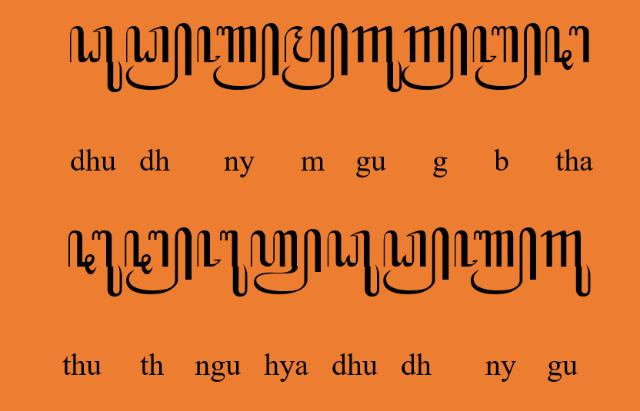-b: (472, 22, 542, 90)
-dh: (382, 227, 450, 295), (126, 22, 192, 92)
-g: (401, 22, 467, 92)
-m: (282, 22, 348, 90)
-ny: (196, 22, 280, 92), (454, 226, 538, 296)
-th: (124, 227, 194, 296)
dhu: (69, 24, 123, 92), (326, 230, 380, 298)
gu: (352, 25, 403, 93), (540, 231, 590, 298)
hy: (250, 229, 322, 296)
ngu: (196, 231, 248, 298)
th: (545, 25, 591, 71)
thu: (68, 229, 122, 298)
